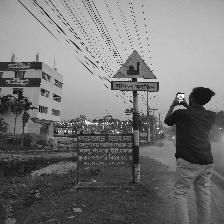Mosque in front: (112, 51, 159, 90)
